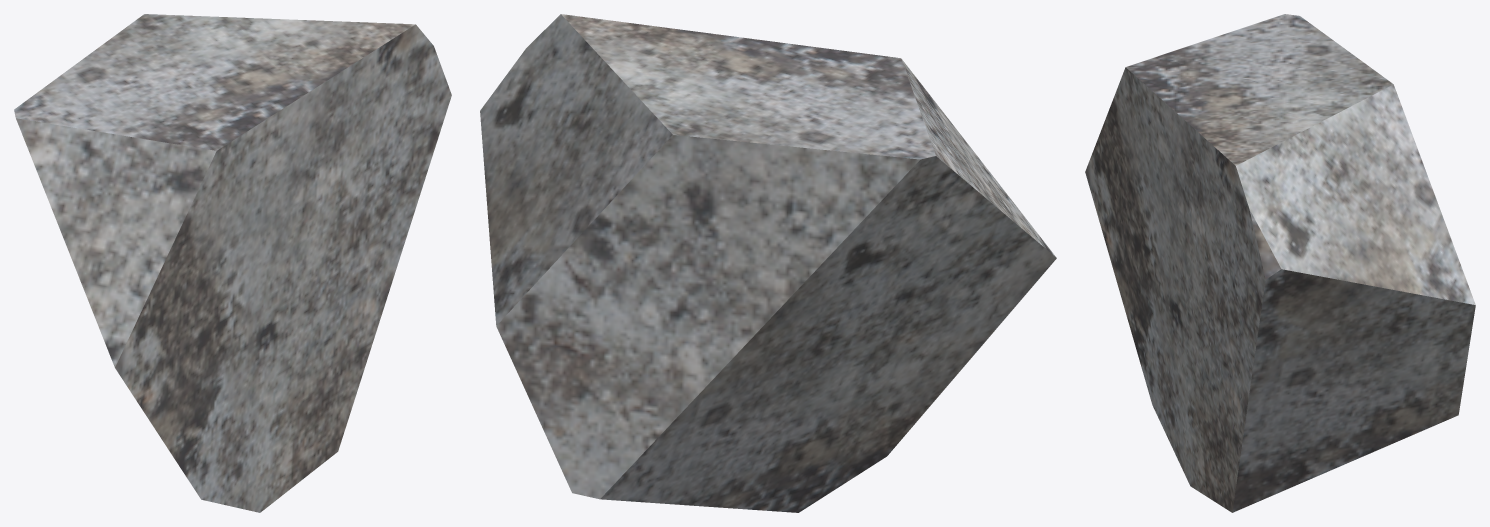
Rendered from Asteroid_Large_001_02_008_03_004.fbx.
3 views of the same model, side by side, from view 1: azimuth 30°, elevation 25°; view 2: azimuth 150°, elevation 25°; view 3: azimuth 270°, elevation 25° (orthographic). The views are drawn at different scales.
Visible parts, largest first — view 1: Asteroid_Large_001_02_008_03_004; view 2: Asteroid_Large_001_02_008_03_004; view 3: Asteroid_Large_001_02_008_03_004.
Part boxes in pixels (bbox=[...]): Asteroid_Large_001_02_008_03_004: bbox=[14, 14, 451, 512]; Asteroid_Large_001_02_008_03_004: bbox=[480, 14, 1056, 512]; Asteroid_Large_001_02_008_03_004: bbox=[1085, 14, 1475, 512].
Size of the model in its own units: 7.59 by 7.16 by 6.29.
